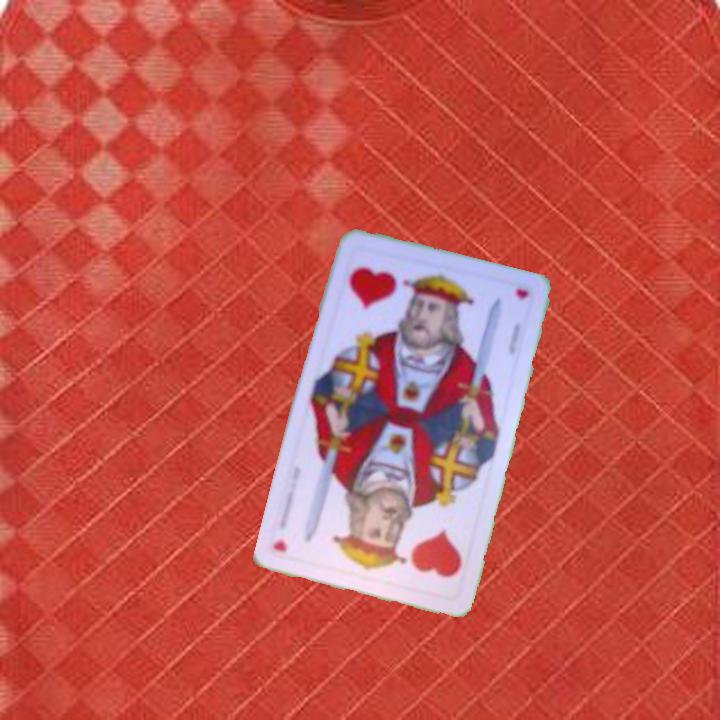h_k.png: (362, 494, 478, 601), (328, 243, 445, 349)
